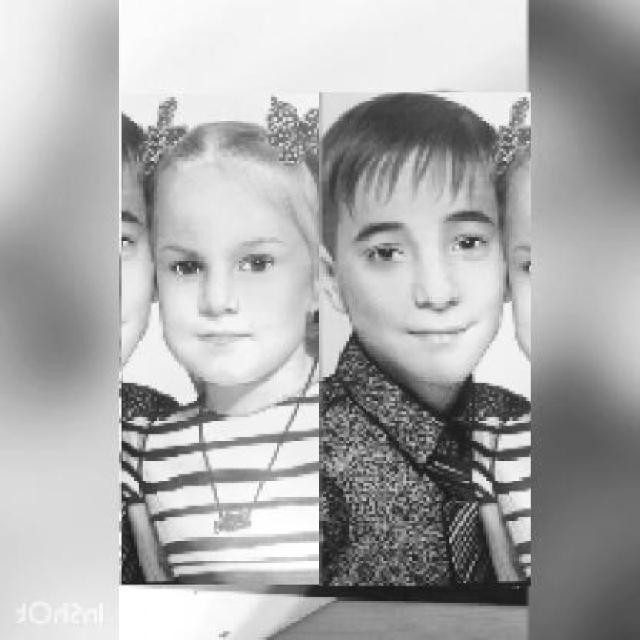child: (120, 94, 377, 586), (318, 91, 531, 588)
